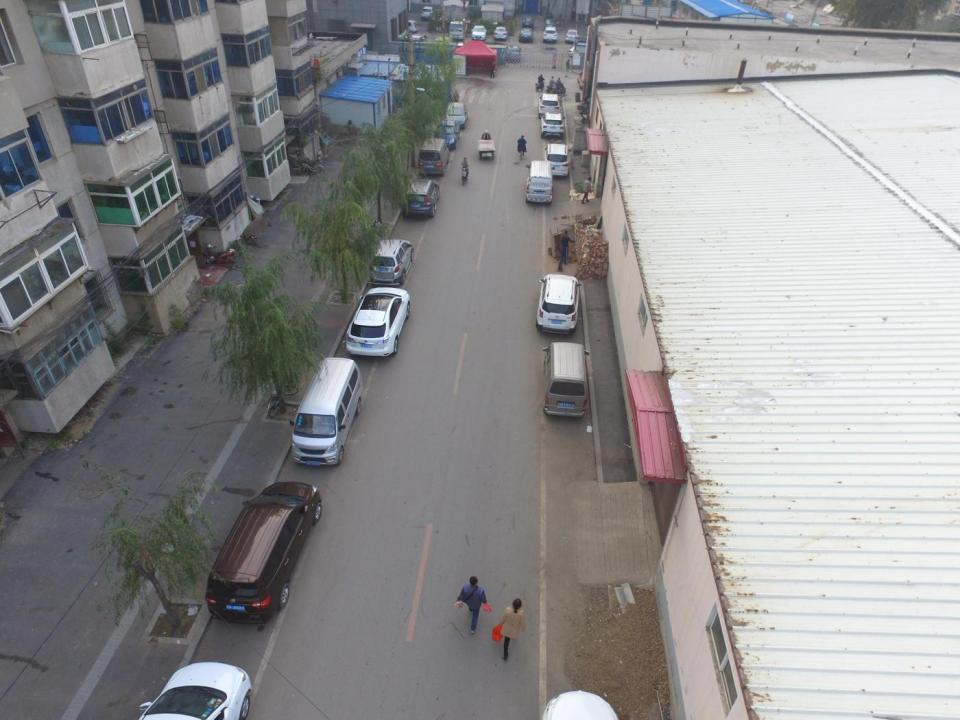car: (135, 661, 253, 720), (345, 287, 410, 357), (536, 273, 582, 336), (368, 238, 414, 287), (401, 178, 440, 219), (545, 143, 571, 178), (433, 119, 460, 149), (540, 112, 566, 139), (444, 102, 468, 128), (538, 93, 560, 118), (542, 26, 558, 44), (518, 26, 534, 43), (420, 5, 436, 22), (505, 46, 522, 62), (471, 25, 487, 40), (493, 26, 508, 41), (543, 18, 557, 32), (565, 30, 579, 43), (522, 16, 534, 29)
truck: (449, 21, 468, 41)
van: (204, 481, 323, 625), (288, 357, 362, 466), (542, 341, 590, 418), (418, 138, 449, 178), (526, 160, 554, 204)
